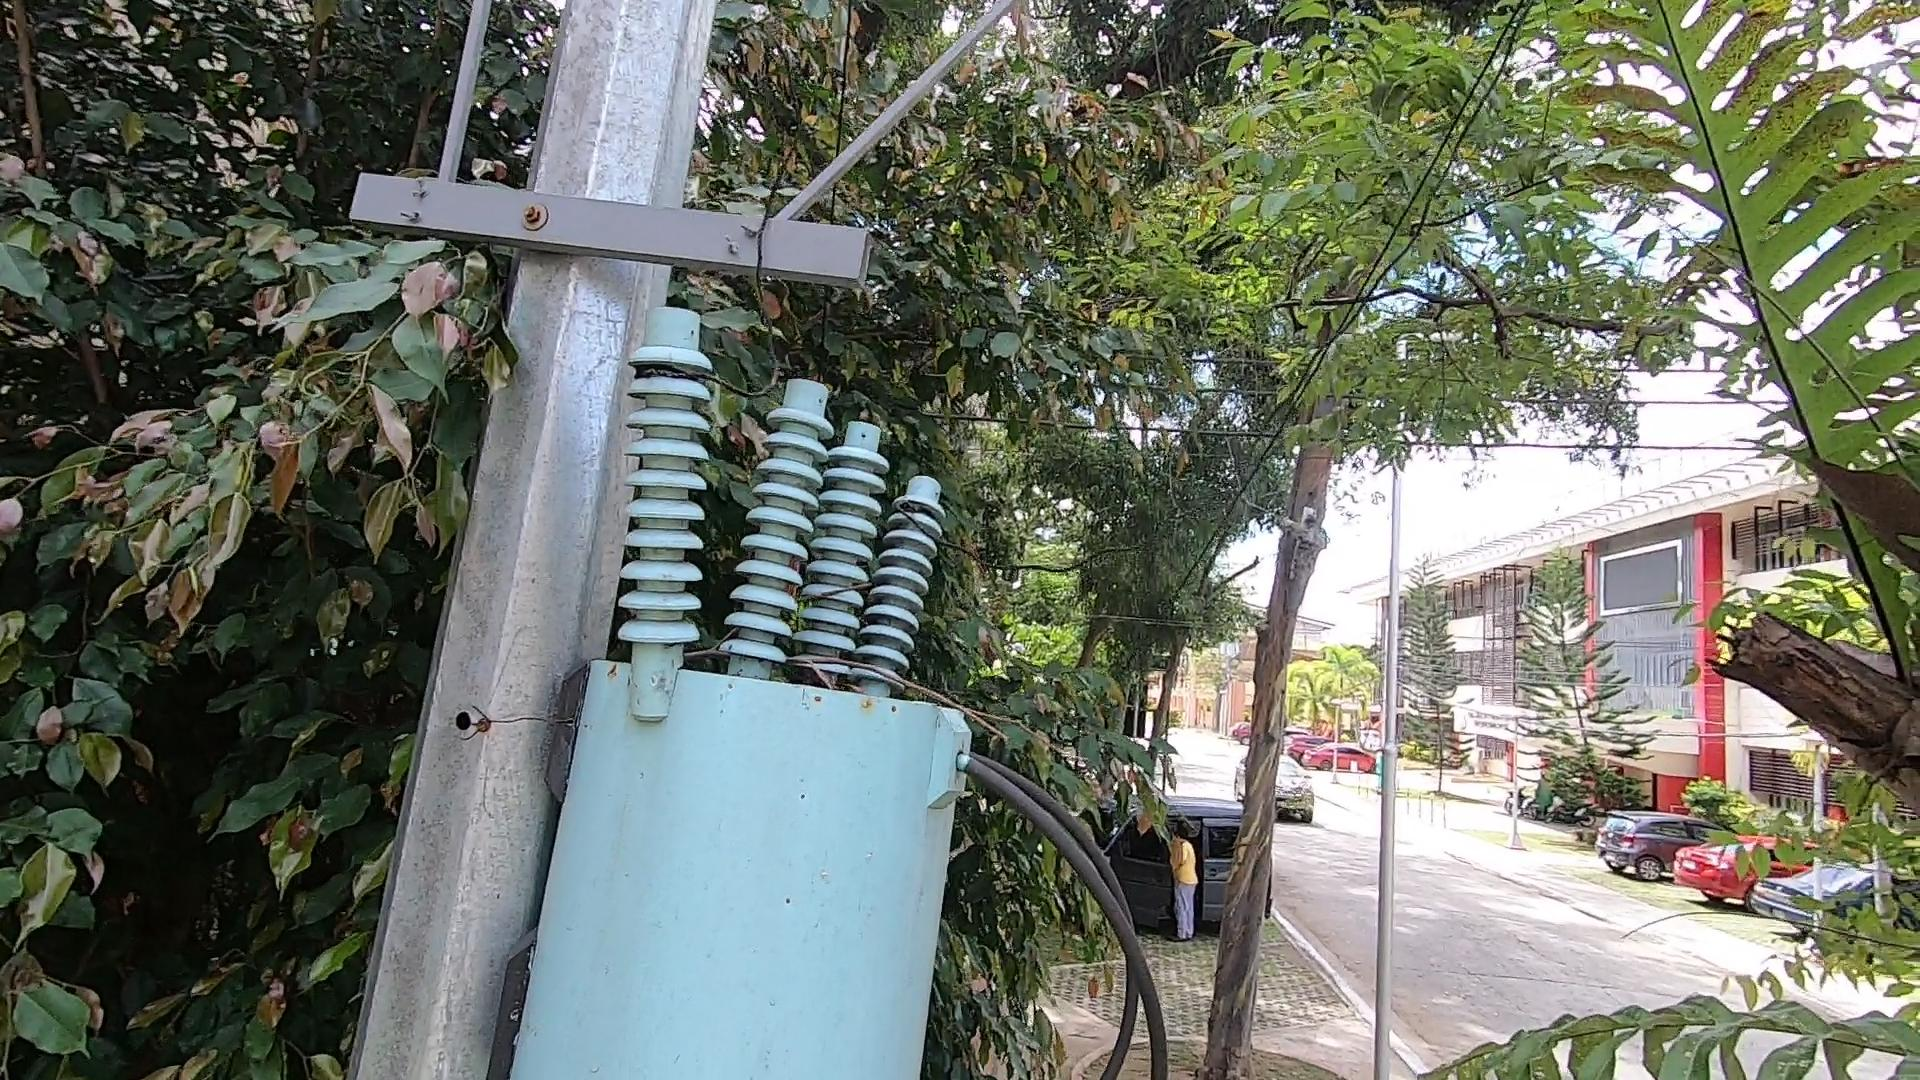leaf: (775, 641, 840, 688)
tree branch: (680, 628, 1044, 748)
